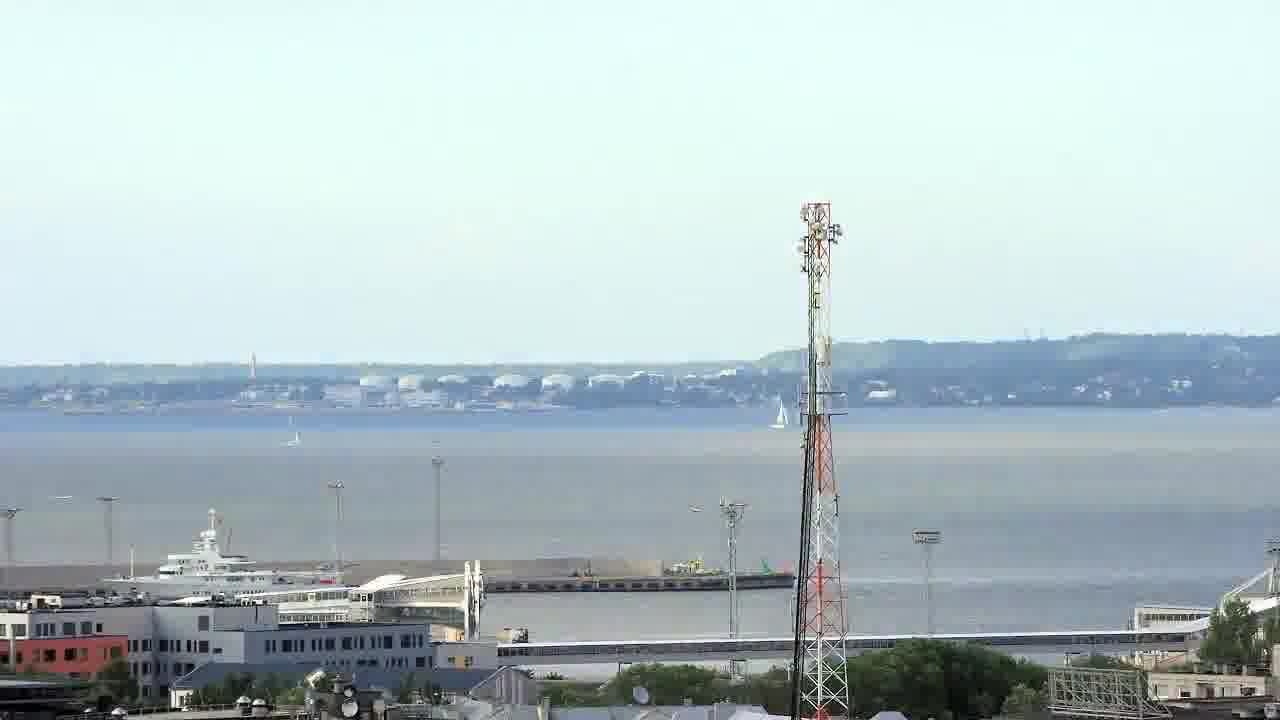type-2: (763, 389, 798, 443)
type-3: (88, 507, 346, 605)
